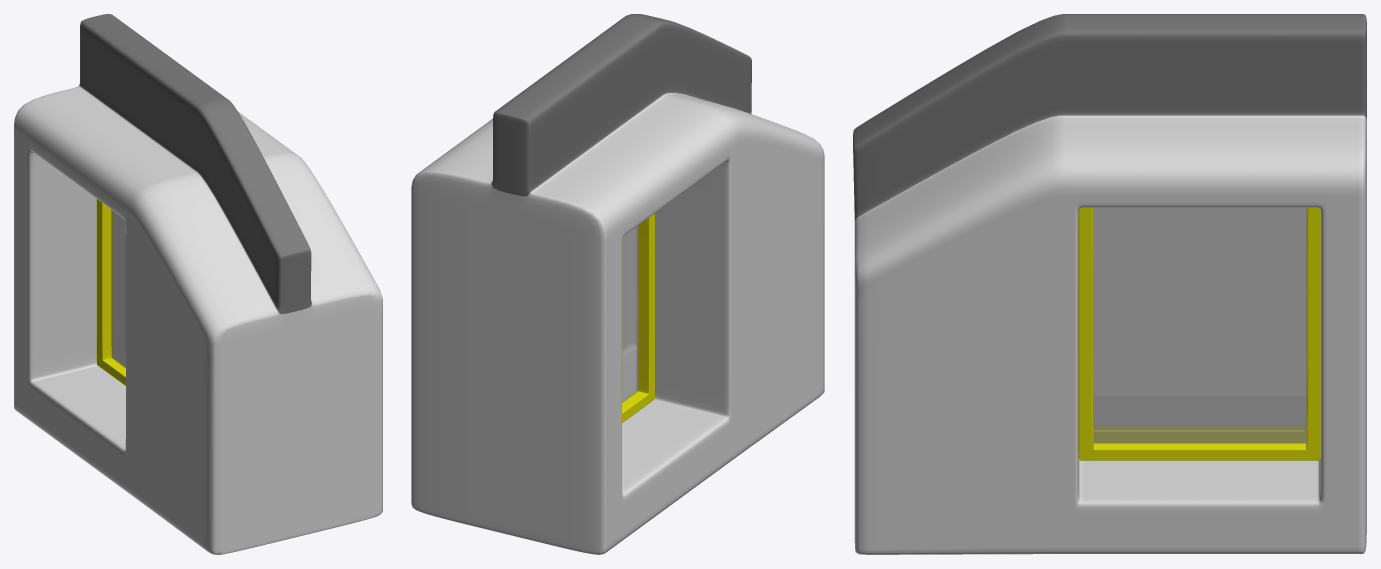
Rendered from FenceHead_LP_FBX.fbx.
3 renders of one model, left to right at view 1: azimuth 30°, elevation 25°; view 2: azimuth 150°, elevation 25°; view 3: azimuth 270°, elevation 25°, orthographic. The views are drawn at different scales.
Parts seen in each view (by area): view 1: polySurface134; view 2: polySurface134; view 3: polySurface134.
Part boxes in pixels (left/top/right/bottom): polySurface134: left=14, top=14, right=382, bottom=554; polySurface134: left=411, top=14, right=824, bottom=554; polySurface134: left=853, top=14, right=1366, bottom=554.
Bounding box in the file's own units: 50 × 104 × 100.
